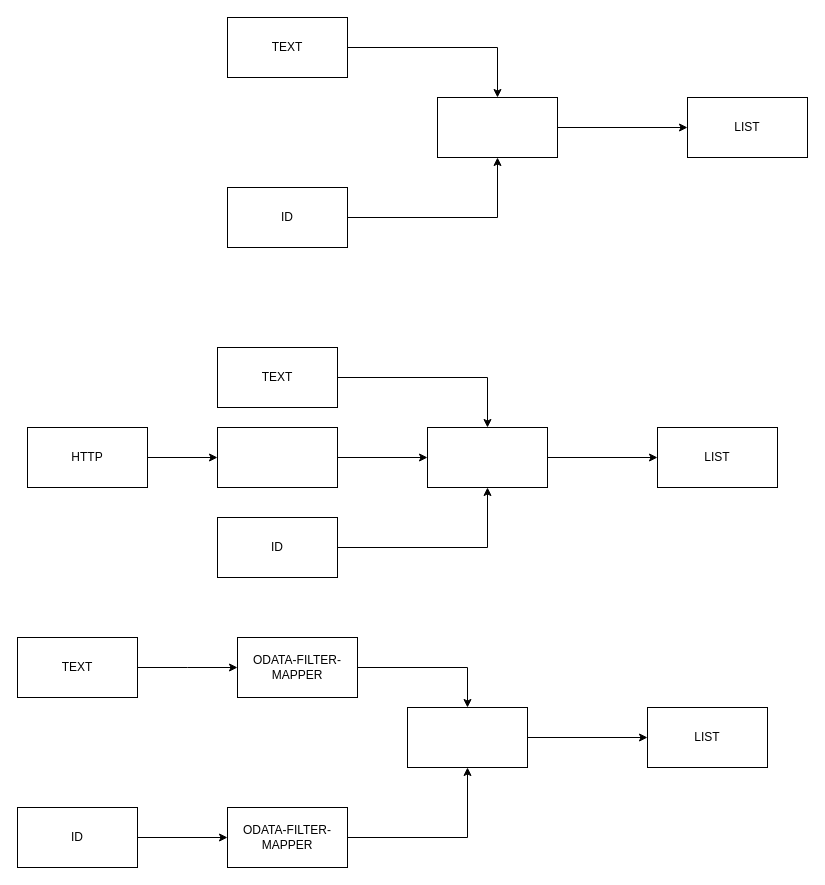
Image size: 825x885. Some labels were removed from this diagram. The shapes that lost their labels are listed below. From the top down, each one's centre as x and y in pixels, then its label:
the point at 497,127: DATA-SOURCE
the point at 277,457: OBSERVABLE<T[]>
the point at 487,457: FILTER
the point at 467,737: ODATA-QUERY
